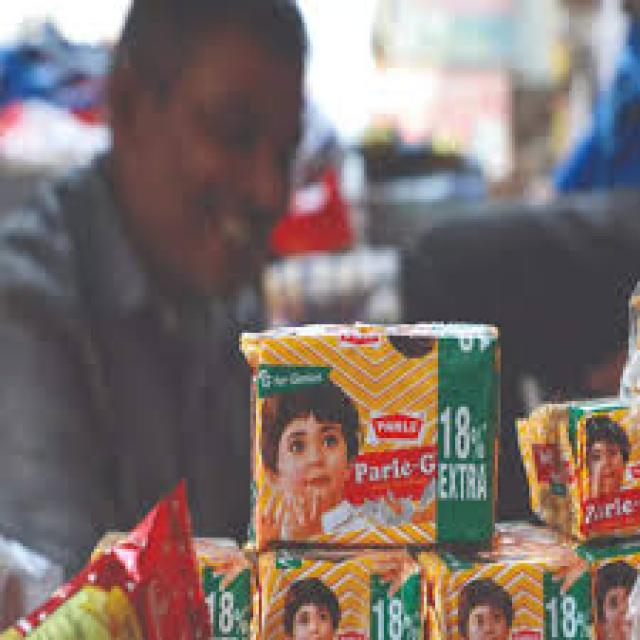parle-g: (250, 331, 495, 540), (518, 398, 640, 540), (256, 551, 429, 640), (438, 560, 589, 640)
